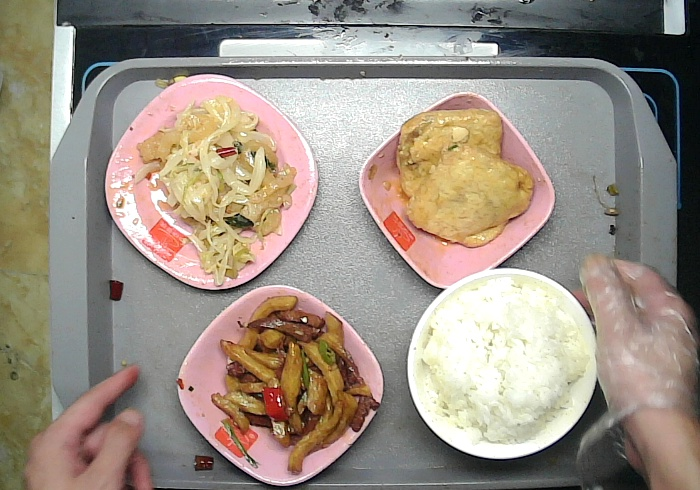SHKJ-Fan_Wan: (397, 267, 601, 462)
SHKJ-Fen_Se_Cai_Die: (170, 284, 388, 487)
SHKJ-Fen_Se_Xiao_Fang_Die: (358, 86, 560, 300)
